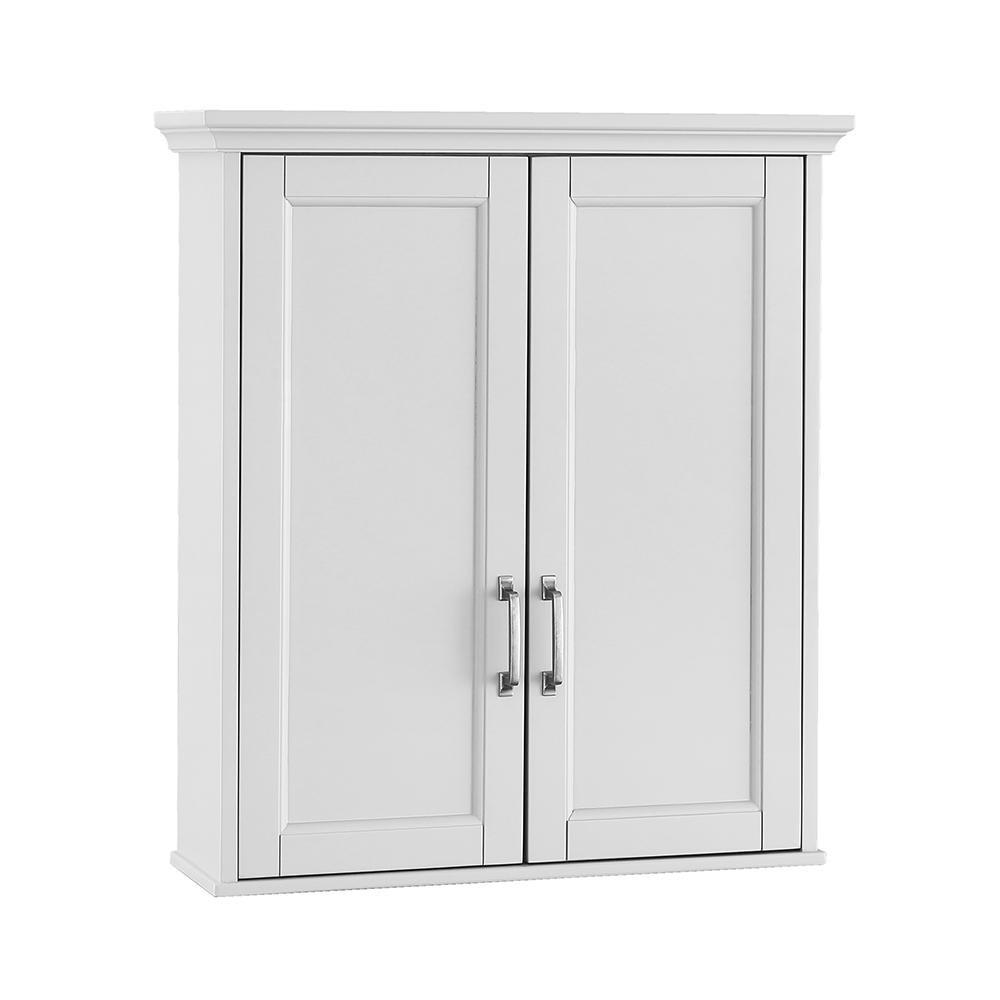cabinet_door: (237, 156, 520, 863), (532, 157, 801, 857)
handle: (538, 576, 570, 694), (495, 574, 524, 696)
